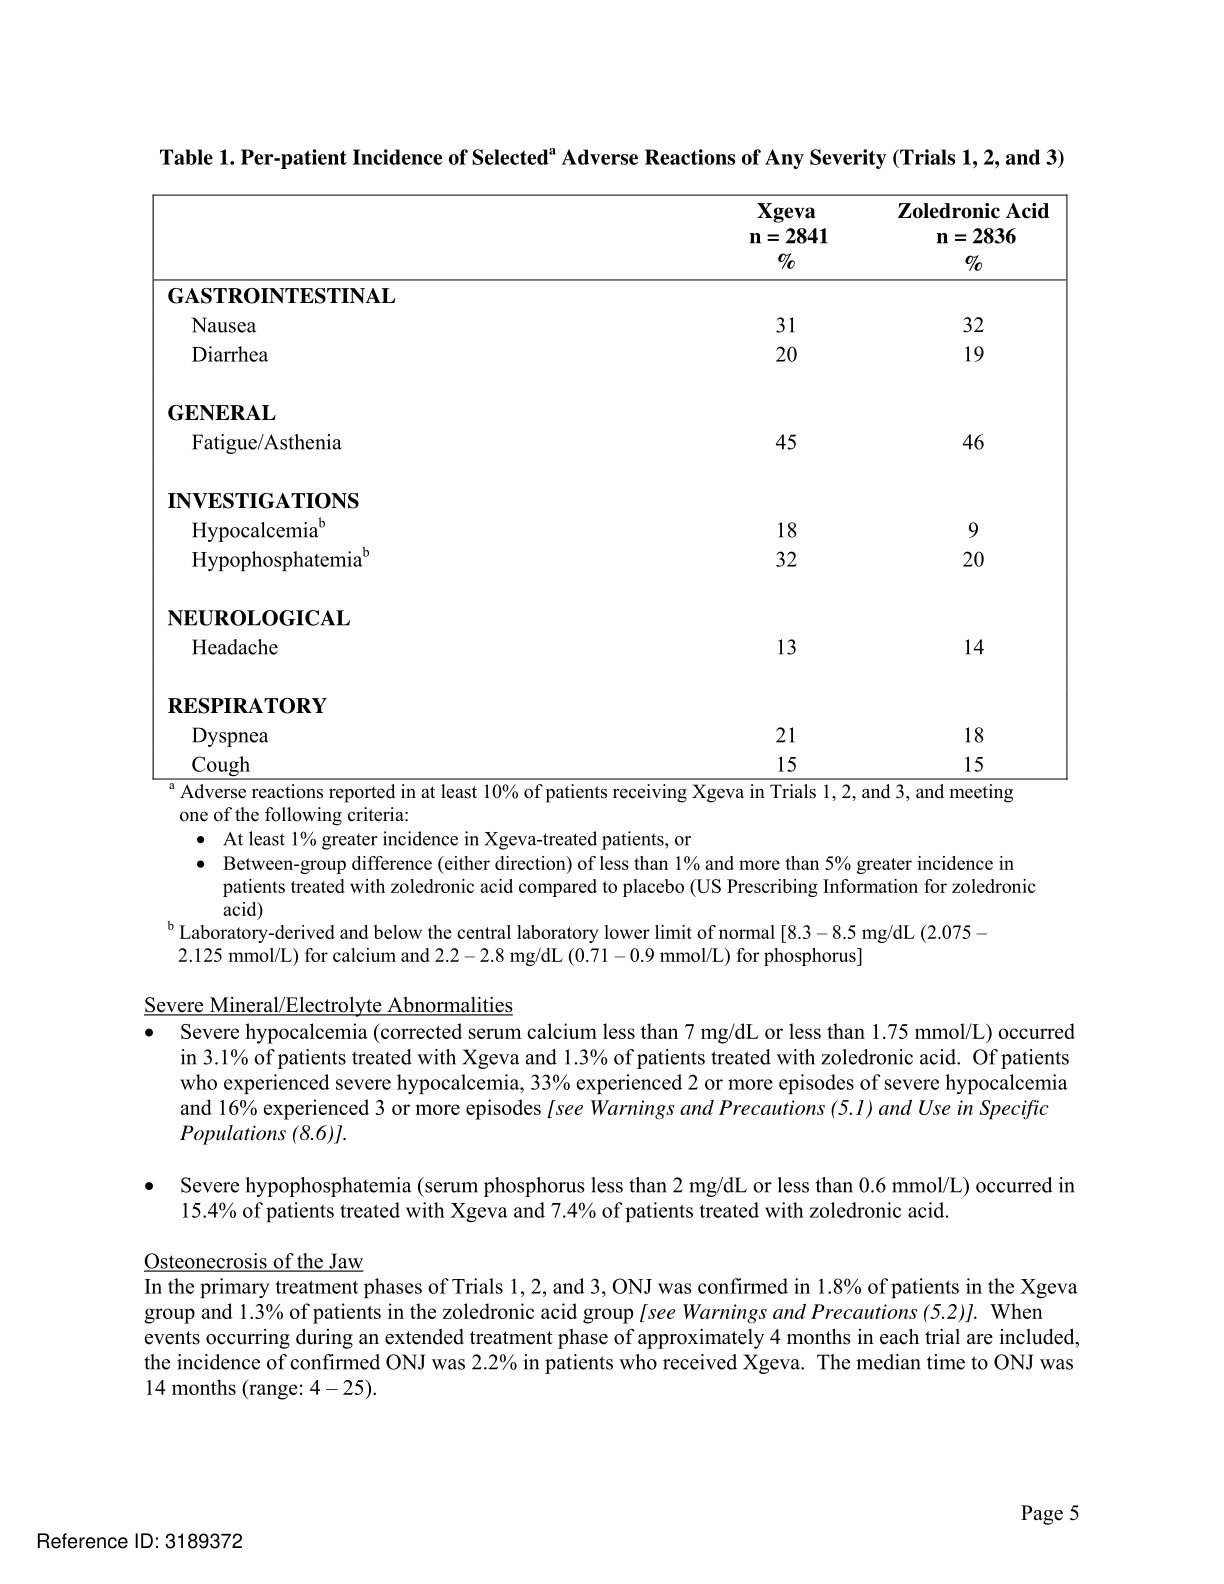partial_lined_merged_cells: (150, 190, 1071, 782)
